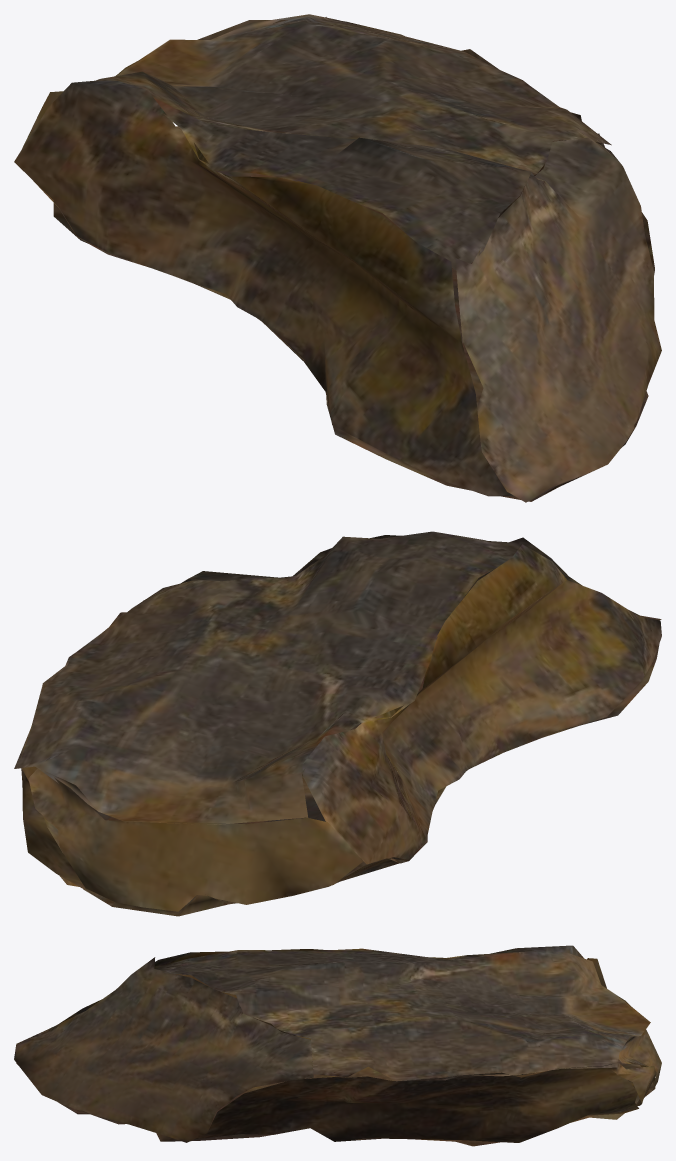
The model's file is rock_09.glb.
The picture shows the model from 3 angles, top to bottom: view 1: azimuth 30°, elevation 25°; view 2: azimuth 150°, elevation 25°; view 3: azimuth 270°, elevation 25°; orthographic projection. The views are drawn at different scales.
Visible parts, largest first — view 1: rock_09_LOD0; view 2: rock_09_LOD0; view 3: rock_09_LOD0.
Part boxes in pixels (x1,y1,x2,y2): rock_09_LOD0: [14, 14, 661, 502]; rock_09_LOD0: [14, 531, 661, 916]; rock_09_LOD0: [14, 945, 661, 1146].
Bounding box in the file's own units: 0.0742 × 0.0324 × 0.1443.
Materials: 1 (1 with a texture image).
